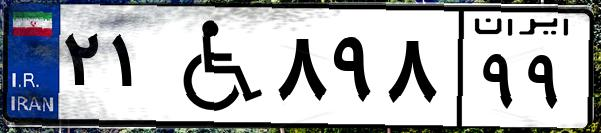1: (110, 28, 158, 98)
2: (57, 26, 110, 100)
8: (270, 28, 330, 110), (385, 28, 445, 110)
9: (330, 28, 385, 110), (475, 38, 525, 113), (525, 38, 570, 115)
ژ (معلولین و جانبازان): (158, 12, 270, 120)
